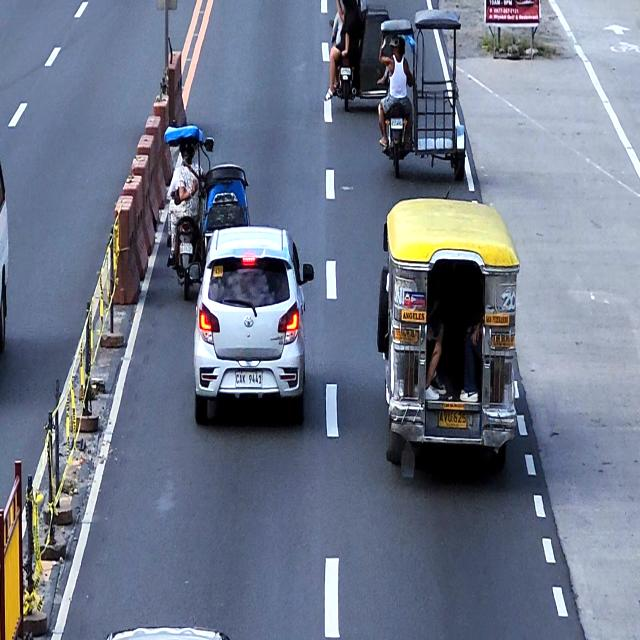Car: (193, 225, 314, 423)
Jeep: (377, 196, 520, 477)
License-Plate: (438, 407, 468, 431), (235, 371, 263, 388), (179, 242, 193, 256), (390, 117, 402, 130), (341, 66, 352, 76)
Tricycle: (378, 9, 469, 185), (164, 124, 248, 300), (335, 0, 392, 113)
